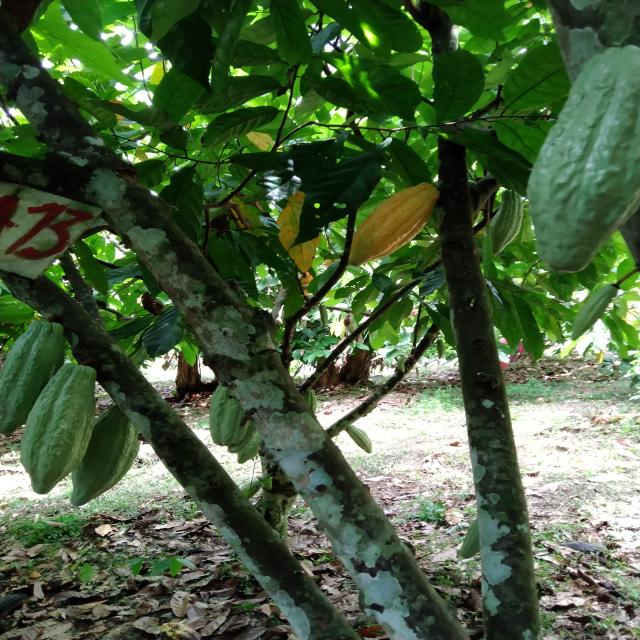Sana: (533, 44, 640, 271), (19, 363, 93, 491), (349, 182, 436, 265), (2, 319, 63, 436), (68, 407, 137, 505), (212, 384, 254, 446), (490, 190, 522, 254), (348, 427, 378, 456), (237, 434, 269, 461), (396, 357, 409, 372), (434, 340, 444, 358)
